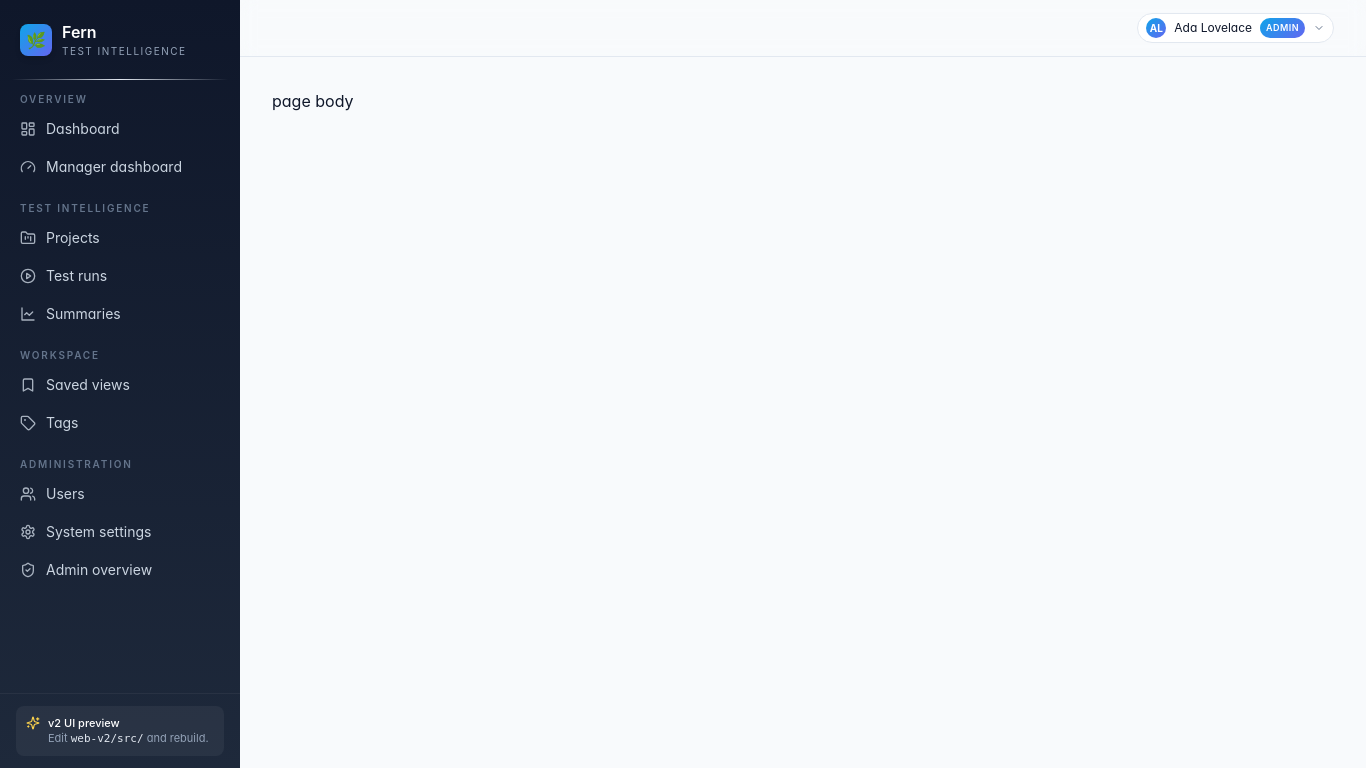
Test: TopBar user pill › opens on click and closes again on second click (toggle)
Click the button at point(1236, 28), box [1137, 13, 1334, 43]
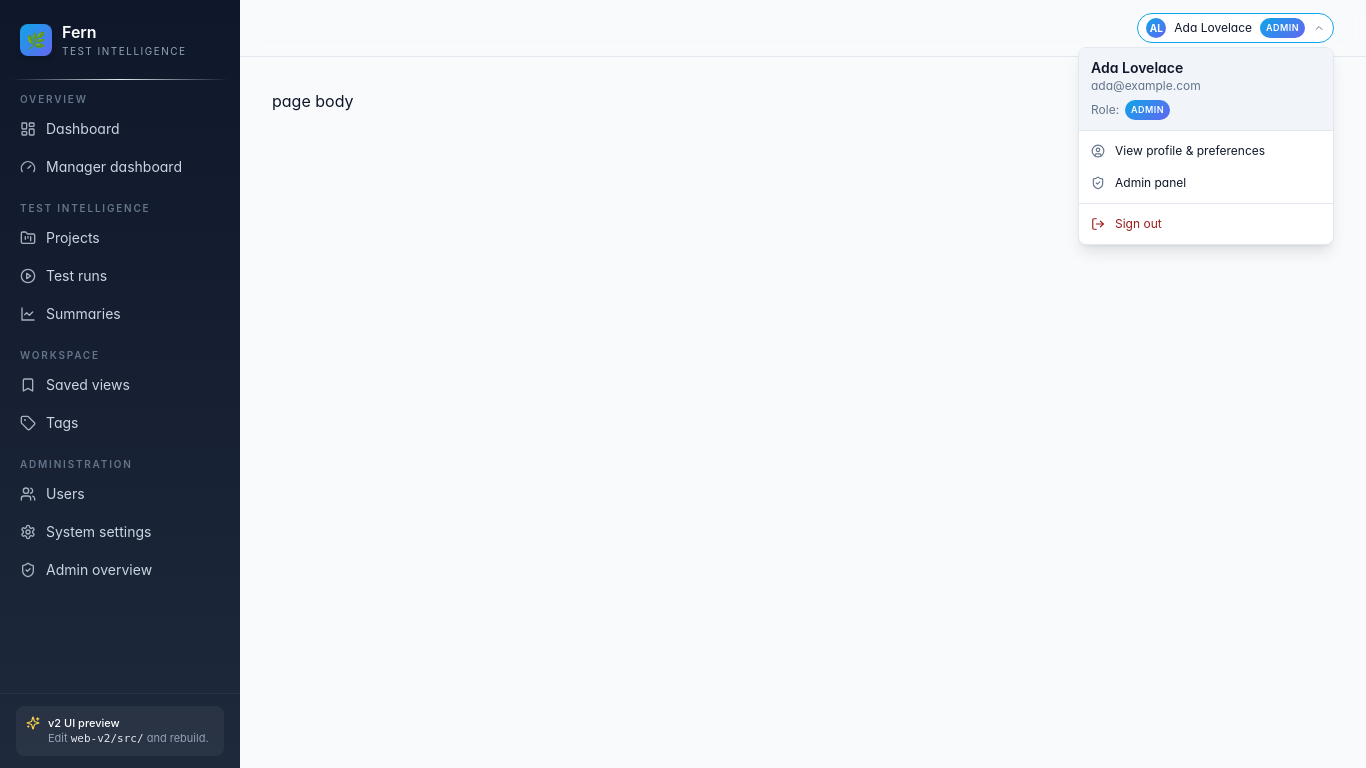
Expected: the menu is shown, [1078, 47, 1334, 245]
Click the button at point(1236, 28), box [1137, 13, 1334, 43]
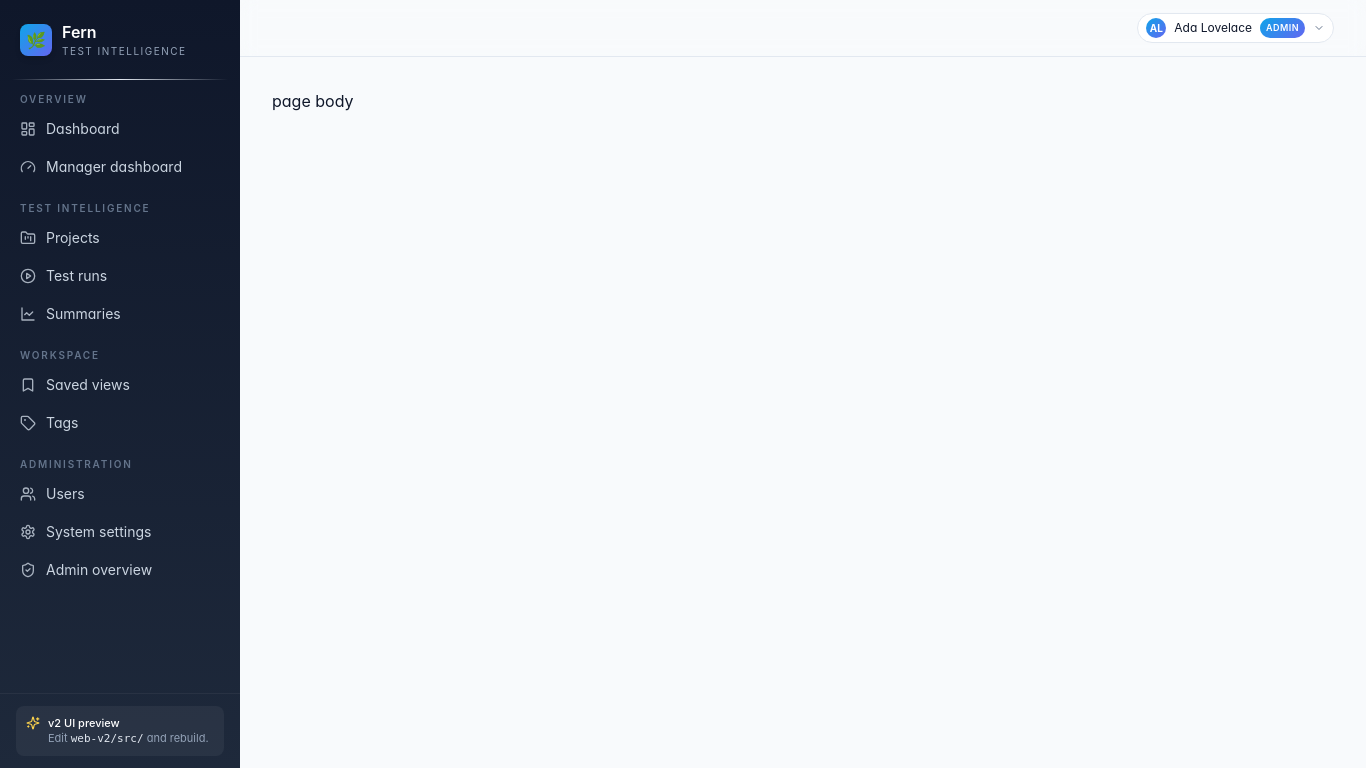
Expected: the menu is gone
